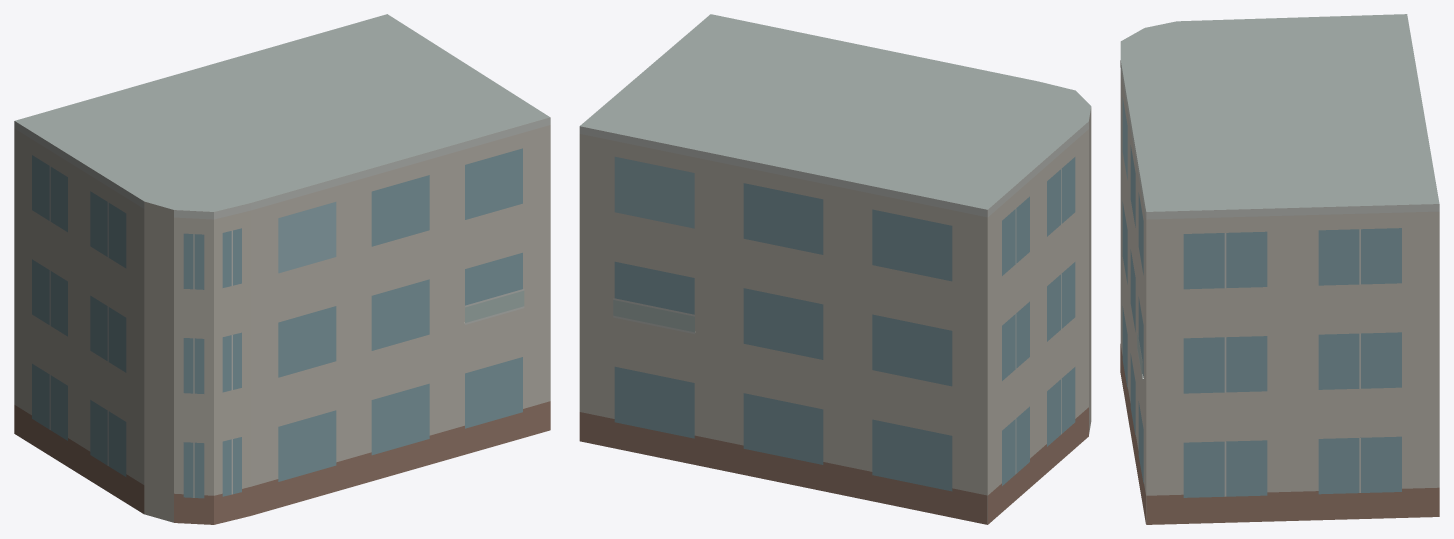
File: survey-upis-32461180.glb
3 views of the same model, side by side, from view 1: azimuth 30°, elevation 25°; view 2: azimuth 150°, elevation 25°; view 3: azimuth 270°, elevation 25° (orthographic).
Parts seen in each view (by area): view 1: survey-upis-32461180.tmp; view 2: survey-upis-32461180.tmp; view 3: survey-upis-32461180.tmp.
Boxes of the visible parts, box(x1,y1,x2,y2) form: survey-upis-32461180.tmp: box(14, 14, 550, 524); survey-upis-32461180.tmp: box(579, 14, 1091, 524); survey-upis-32461180.tmp: box(1120, 14, 1439, 524).
Bounding box in the file's own units: 13.71 × 10.1 × 9.35.
